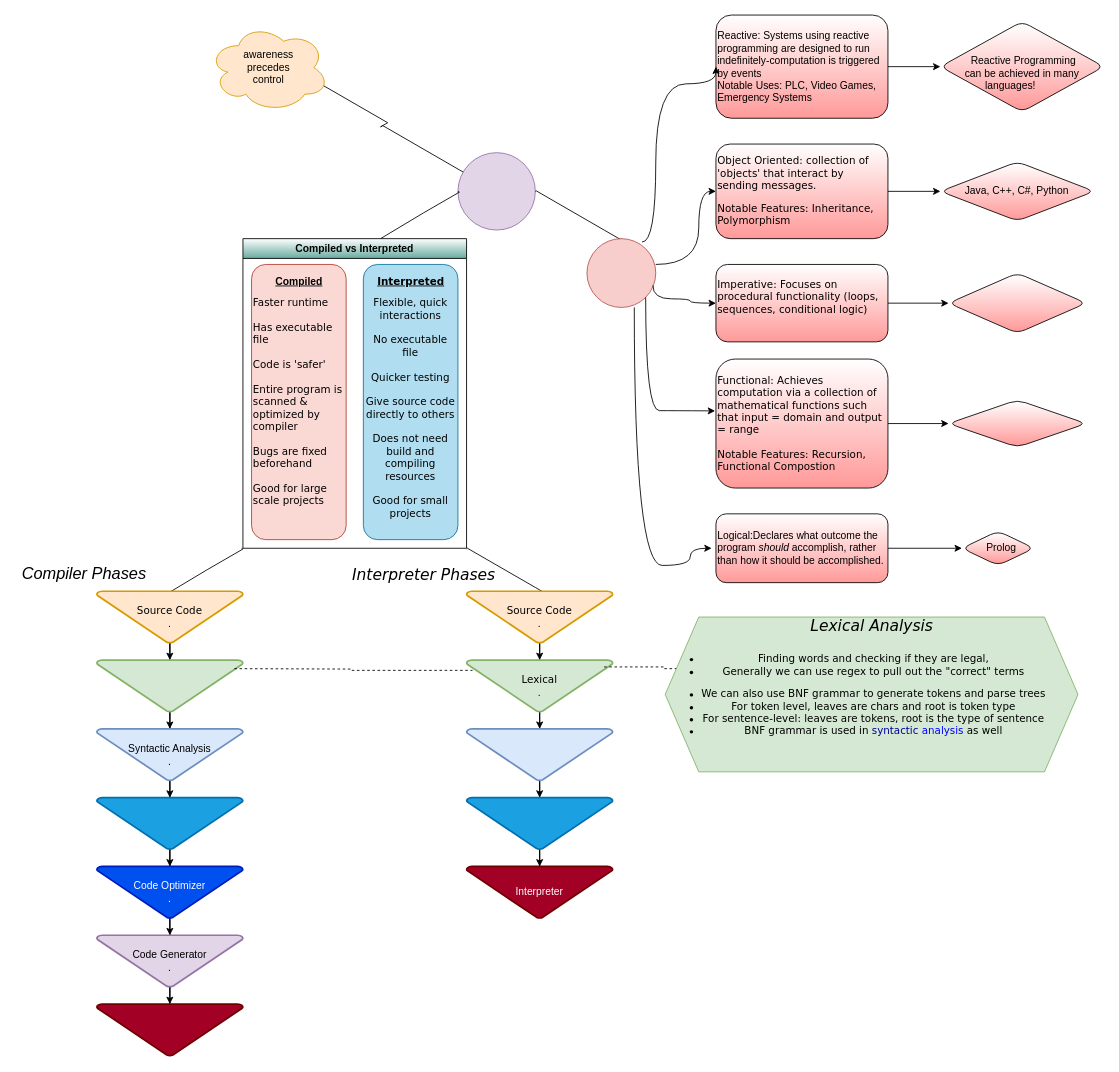
Some shapes in this 1119 by 1072 pixel diagram are drawn without their labels. Each missing label, with the centre of its shape:
"Cobol, Fortran, C" goes at pixel 1017 302.
"CS 351" goes at pixel 496 191.
"Lexical Analysis ." goes at pixel 169 685.
"Lisp, Haskell, F#" goes at pixel 1017 423.
"Machine Code ." goes at pixel 169 1029.
"Paradigms" goes at pixel 621 272.
"Semantic" goes at pixel 539 823.
"Semantic Analysis ." goes at pixel 169 823.
"Syntactic" goes at pixel 539 754.
